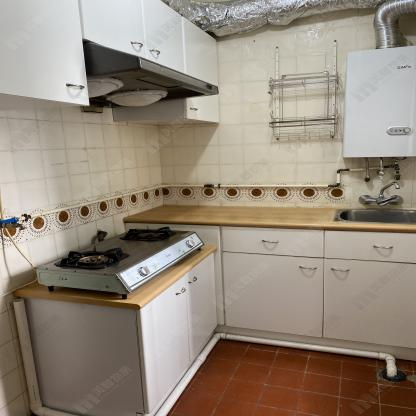Cupboard: (141, 226, 416, 414), (1, 1, 223, 104)
Exhaust Hood: (80, 41, 222, 109)
Sink: (334, 210, 416, 225)
Stove: (33, 226, 207, 294)
